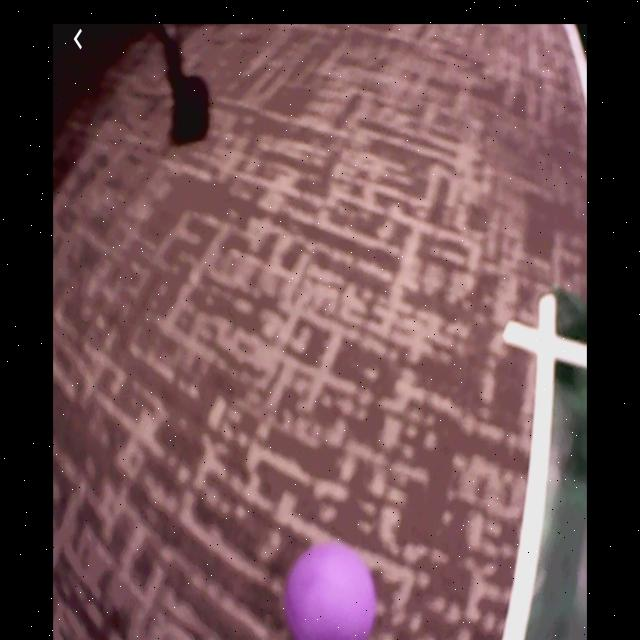ball: (284, 540, 379, 639)
